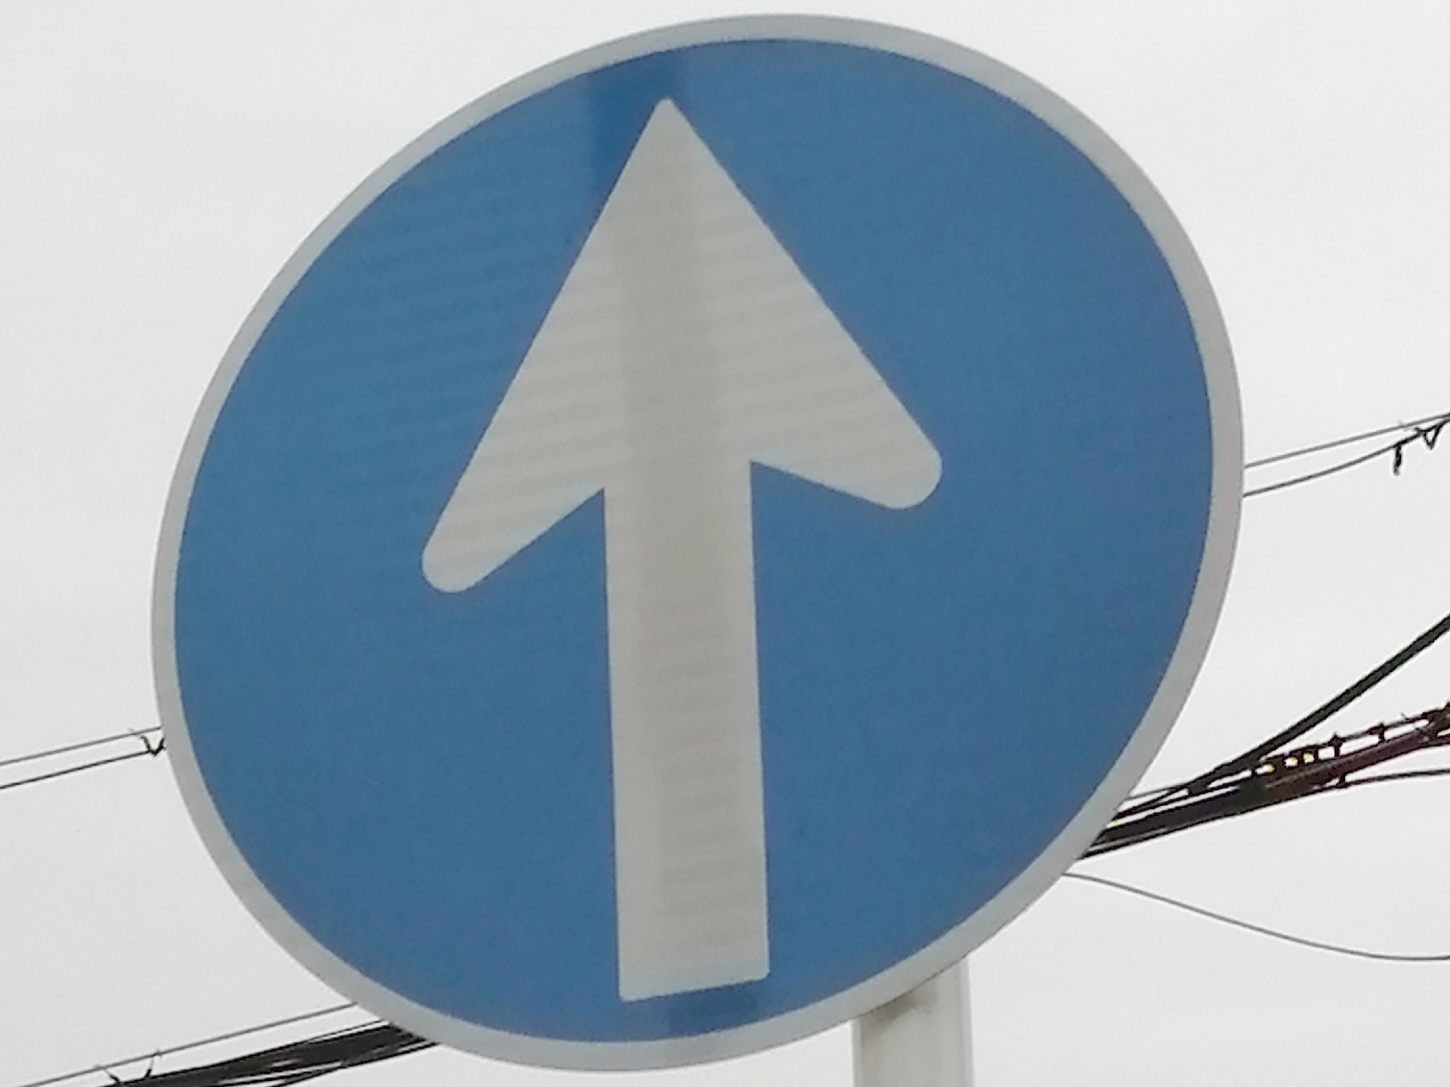Direction_sign: (53, 3, 1314, 1074)
